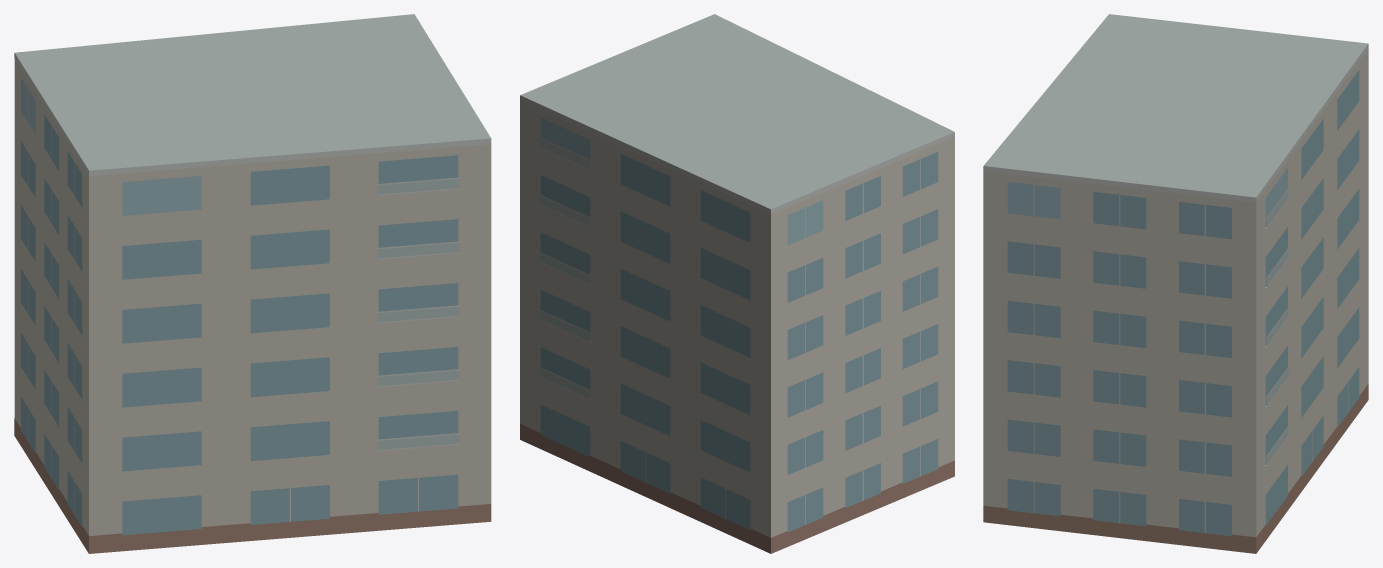
The model's file is survey-upis-32874505.glb.
The picture shows the model from 3 angles, left to right: view 1: azimuth 30°, elevation 25°; view 2: azimuth 150°, elevation 25°; view 3: azimuth 270°, elevation 25°; orthographic projection. The views are drawn at different scales.
Parts seen in each view (by area): view 1: survey-upis-32874505.tmp; view 2: survey-upis-32874505.tmp; view 3: survey-upis-32874505.tmp.
Part boxes in pixels (<box>): survey-upis-32874505.tmp: <box>14,14,491,553</box>; survey-upis-32874505.tmp: <box>520,14,954,553</box>; survey-upis-32874505.tmp: <box>983,14,1368,553</box>.
Bounding box in the file's own units: 18.29 × 16.55 × 16.22.
